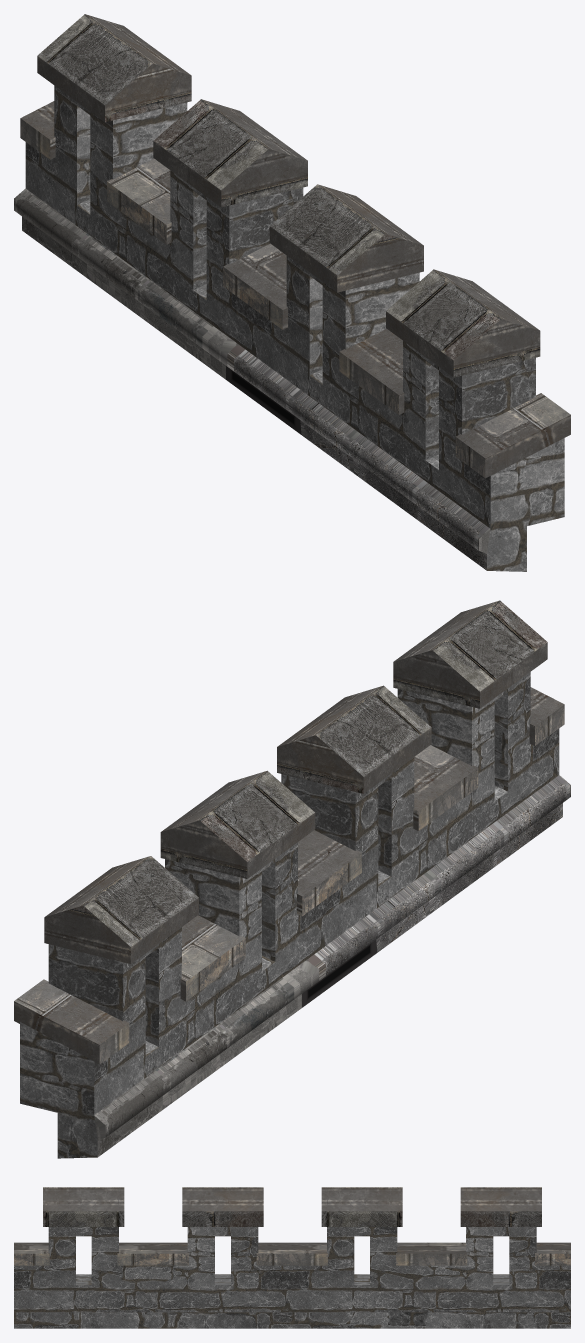
Rendered from MC_Battlements_Wall_A_8m.fbx.
The picture shows the model from 3 angles, top to bottom: view 1: azimuth 30°, elevation 25°; view 2: azimuth 150°, elevation 25°; view 3: azimuth 270°, elevation 25°; orthographic projection. The views are drawn at different scales.
Parts seen in each view (by area): view 1: MC_Battlements_Wall_A_8m_LOD0; view 2: MC_Battlements_Wall_A_8m_LOD0; view 3: MC_Battlements_Wall_A_8m_LOD0.
Boxes of the visible parts, x1=… form: MC_Battlements_Wall_A_8m_LOD0: x1=14, y1=14, x2=570, y2=571; MC_Battlements_Wall_A_8m_LOD0: x1=14, y1=600, x2=570, y2=1158; MC_Battlements_Wall_A_8m_LOD0: x1=14, y1=1187, x2=570, y2=1328.
Size of what is drawn, in the model's own units: 92.28 by 224 by 800.
